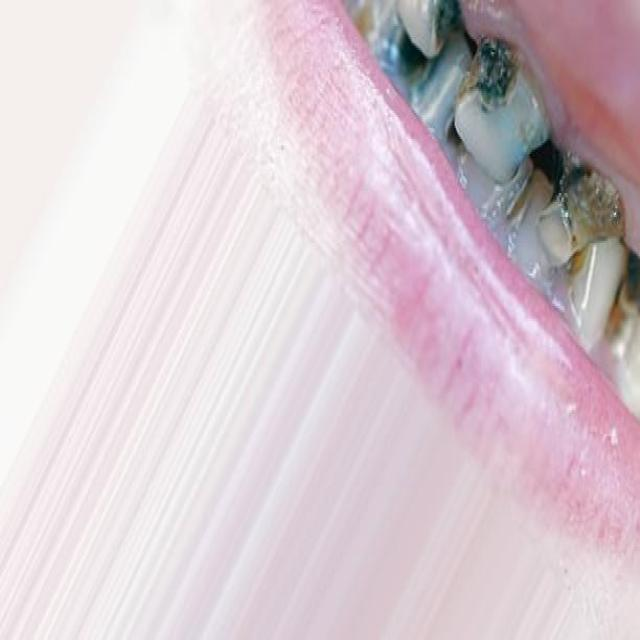caries: (452, 24, 546, 187), (539, 141, 627, 277), (401, 0, 458, 65)
